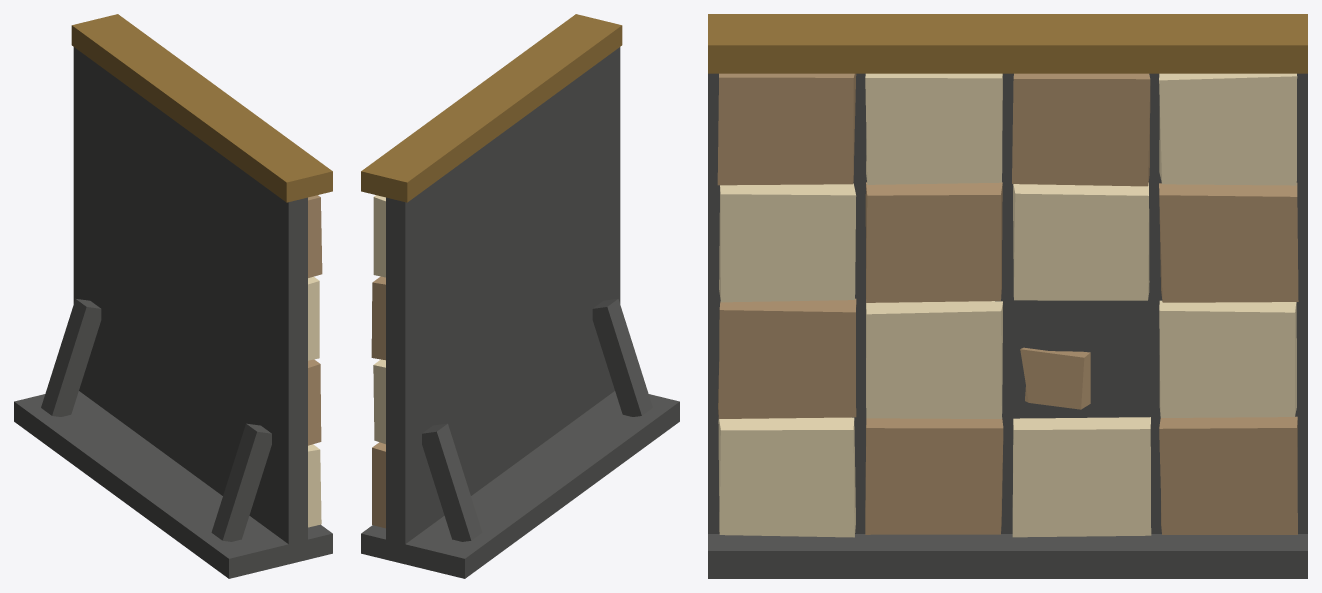
File: arm_ceramic_plates.glb
3 renders of one model, left to right at view 1: azimuth 30°, elevation 25°; view 2: azimuth 150°, elevation 25°; view 3: azimuth 270°, elevation 25°, orthographic. The views are drawn at different scales.
Visible parts, largest first — view 1: arm_ceramic_plates; view 2: arm_ceramic_plates; view 3: arm_ceramic_plates.
Part boxes in pixels (left/top/right/bottom): arm_ceramic_plates: left=14, top=14, right=332, bottom=578; arm_ceramic_plates: left=361, top=14, right=679, bottom=578; arm_ceramic_plates: left=708, top=14, right=1307, bottom=578.
Size of the model in its own units: 0.27 by 0.95 by 0.968.
